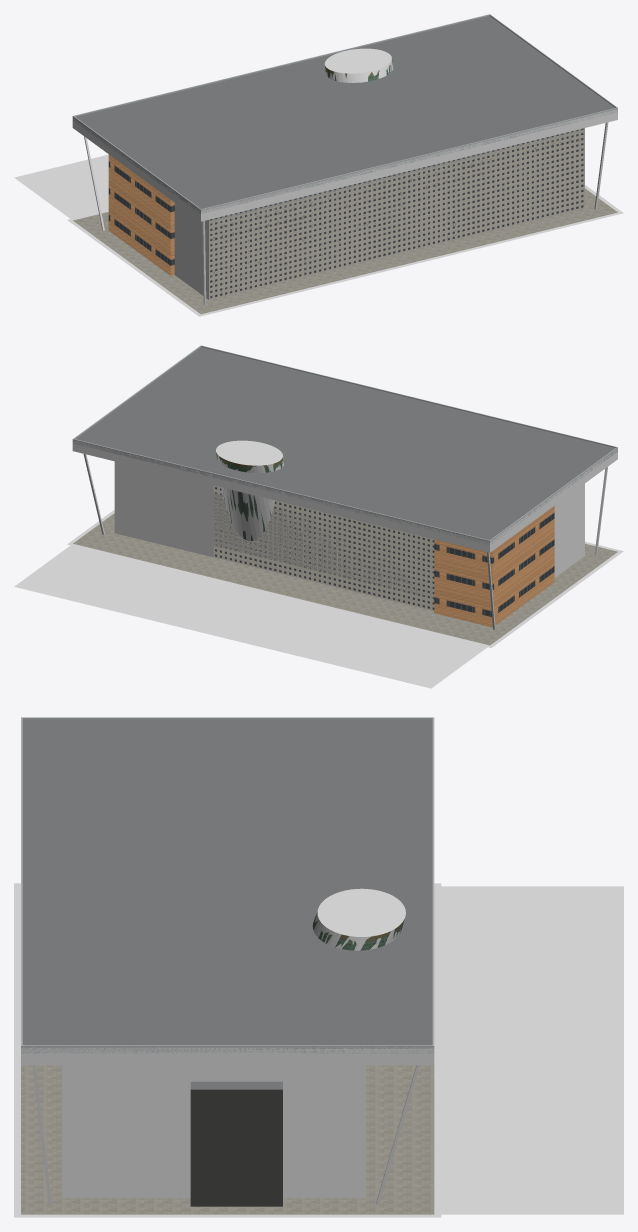
File: capitalmuseum.glb
3 views of the same model, one above another, from view 1: azimuth 30°, elevation 25°; view 2: azimuth 150°, elevation 25°; view 3: azimuth 270°, elevation 25° (orthographic). The views are drawn at different scales.
Visible parts, largest first — view 1: Massing, CapitalMuseum, COL_roof, FOOTPRINT_forecourt, COL_box, CLEAR_museum, COL_drum; view 2: Massing, CapitalMuseum, FOOTPRINT_forecourt, COL_hallglass, COL_roof, COL_drum, COL_box, CLEAR_museum; view 3: Massing, FOOTPRINT_forecourt, CapitalMuseum, COL_box, COL_roof, CLEAR_museum, COL_drum, COL_hallglass.
Part boxes in pixels (x1,y1,x2,y2): Massing: (72, 16, 617, 299); CapitalMuseum: (72, 14, 617, 314); COL_roof: (72, 109, 617, 221); FOOTPRINT_forecourt: (14, 154, 108, 218); COL_box: (174, 203, 208, 299); CLEAR_museum: (67, 185, 623, 316); COL_drum: (324, 48, 393, 82); Massing: (75, 347, 617, 610); CapitalMuseum: (72, 345, 617, 645); FOOTPRINT_forecourt: (14, 544, 489, 688); COL_hallglass: (114, 461, 213, 557); COL_roof: (72, 440, 617, 552); COL_drum: (216, 440, 284, 540); COL_box: (554, 483, 584, 577); CLEAR_museum: (67, 510, 623, 647); Massing: (21, 719, 433, 1052); FOOTPRINT_forecourt: (434, 886, 623, 1214); CapitalMuseum: (21, 717, 434, 1214); COL_box: (61, 1065, 352, 1198); COL_roof: (21, 1047, 434, 1065); CLEAR_museum: (14, 883, 441, 1217); COL_drum: (313, 888, 405, 950); COL_hallglass: (353, 1065, 365, 1198).
Bounding box in the file's own units: 172 × 43.29 × 132.
Materials: 12 (6 with a texture image).
